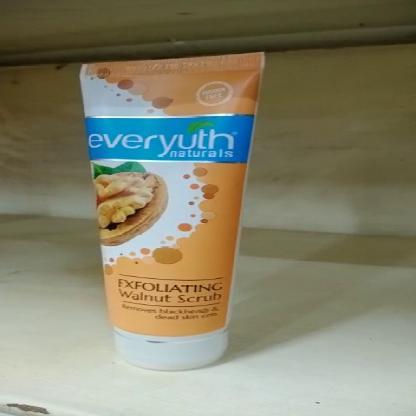EY EXF WALNUT SCRUB AYR 200G: (68, 50, 274, 372)
